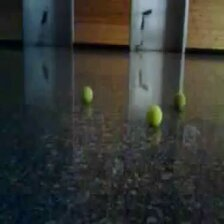tennis: (145, 105, 163, 128), (81, 85, 94, 106), (173, 93, 186, 112)
